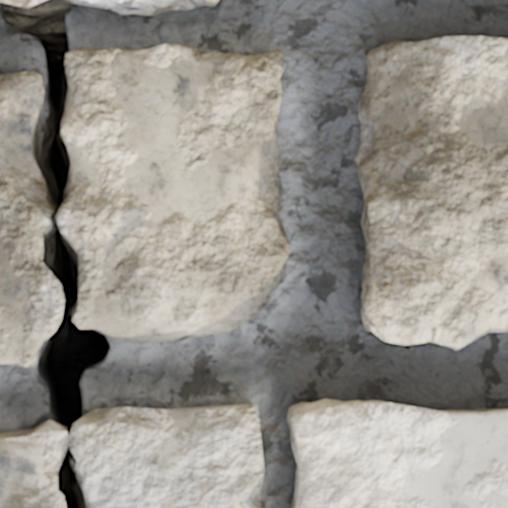brick: (355, 37, 507, 349), (288, 400, 507, 507), (62, 0, 217, 14), (0, 0, 55, 6)
broken_brick: (57, 43, 290, 343), (70, 403, 264, 507), (0, 70, 63, 367), (0, 419, 67, 507)
crack: (0, 0, 110, 507)
